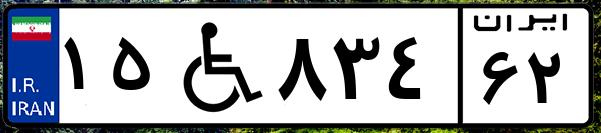1: (57, 26, 110, 100)
2: (525, 38, 570, 115)
3: (330, 28, 385, 110)
4: (385, 28, 445, 110)
5: (110, 28, 158, 98)
6: (475, 38, 525, 113)
8: (270, 28, 330, 110)
ژ (معلولین و جانبازان): (158, 12, 270, 120)
